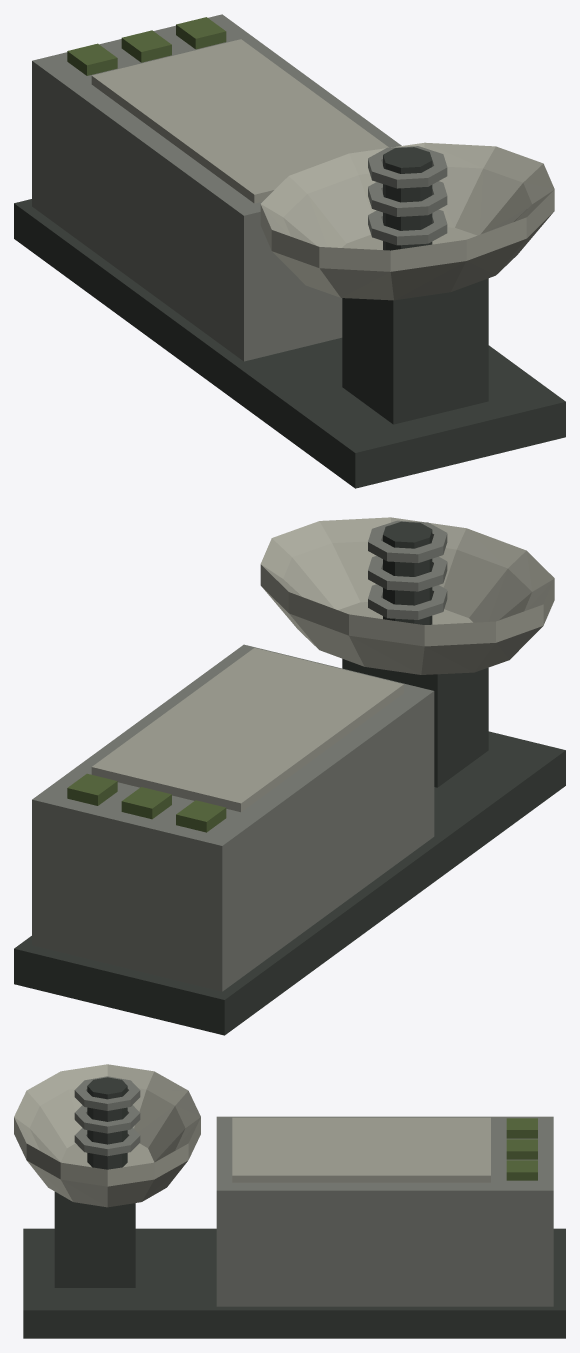
Rendered from electric_inhibitor.obj.
3 renders of one model, top to bottom at view 1: azimuth 30°, elevation 25°; view 2: azimuth 150°, elevation 25°; view 3: azimuth 270°, elevation 25°, orthographic. The views are drawn at different scales.
Parts seen in each view (by area): view 1: electric_inhibitor; view 2: electric_inhibitor; view 3: electric_inhibitor.
Part boxes in pixels (x1,y1,x2,y2): electric_inhibitor: [14, 14, 565, 488]; electric_inhibitor: [14, 517, 565, 1035]; electric_inhibitor: [14, 1064, 565, 1338].
Bounding box in the file's own units: 0.8 × 0.75 × 1.77.
